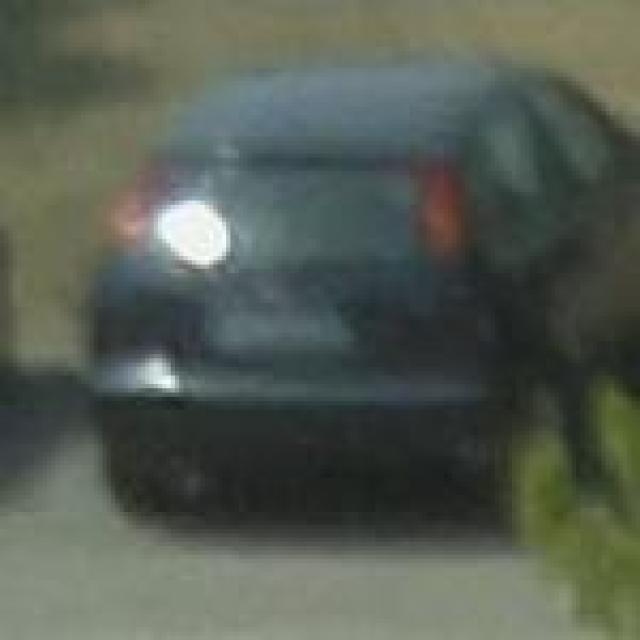cars-sUYr: (68, 41, 640, 542)
